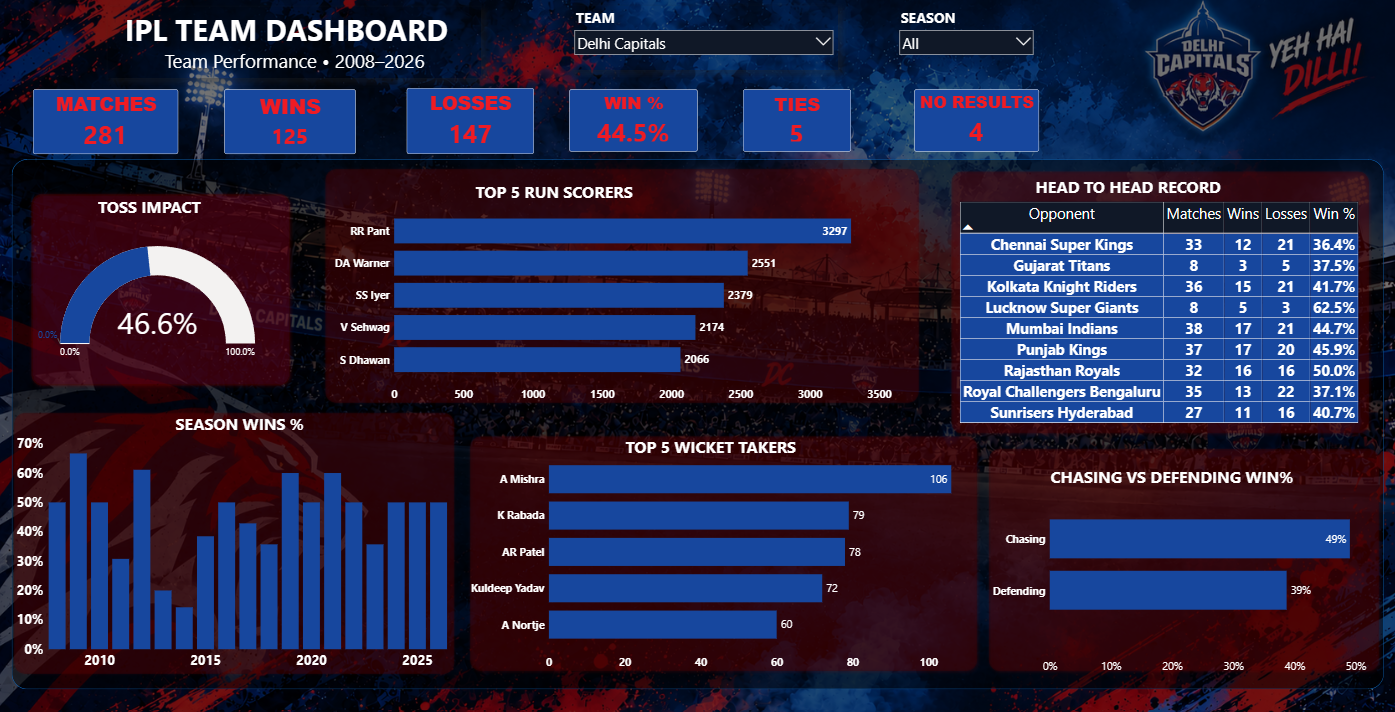

This screenshot's page, from the dashboard's own definition file:
{"tool":"powerbi","page":{"name":"Page 1","canvas":[2800,1450],"ordinal":0},"visuals":[{"type":"image","box":[0,2.3,2800,1448.5],"z":0},{"type":"shape","box":[0,2.3,2800,1448.5],"z":1000},{"type":"shape","box":[27.2,322.3,2744.3,1060],"z":2000},{"type":"shape","box":[56.7,383.6,535.7,401.8],"z":2500},{"type":"shape","box":[649.2,338.2,1196.2,476.7],"z":2750},{"type":"shape","box":[935.6,868.6,1032.7,487.5],"z":2875},{"type":"shape","box":[27.2,824,889.8,531.2],"z":2937},{"type":"shape","box":[1897.6,338.2,853.5,542.5],"z":2968},{"type":"shape","box":[1972.5,892.1,799,463.1],"z":2984},{"type":"slicer","fields":{"Values":["Dim_Team.Team_Name"]},"box":[1143.6,13.9,538.3,129.4],"z":3000},{"type":"slicer","fields":{"Values":["Dim_Date.Year"]},"box":[1792.7,13.9,288.8,129.4],"z":4000},{"type":"textbox","box":[219.5,18.5,746.2,143.2],"z":5000},{"type":"cardVisual","title":"MATCHES","fields":{"Data":["Dim_Date.Matches Played"]},"box":[70.4,181.6,290.5,129.4],"z":6000},{"type":"cardVisual","title":"WINS","fields":{"Data":["Fact_Match.Wins"]},"box":[452.8,182.5,263.4,129.4],"z":8000},{"type":"cardVisual","title":"LOSSES","fields":{"Data":["Fact_Match.Losses"]},"box":[817.2,179.3,254.2,131.7],"z":9000},{"type":"cardVisual","title":"WIN %","fields":{"Data":["Fact_Match.Win %"]},"box":[1143.6,182.5,256.4,124.8],"z":10000},{"type":"cardVisual","title":"TIES","fields":{"Data":["Fact_Match.Ties"]},"box":[1489,181.6,215.6,124.8],"z":11000},{"type":"cardVisual","title":"NO RESULTS","fields":{"Data":["Fact_Match.No Results"]},"box":[1832,182.5,249.5,124.8],"z":12000},{"type":"clusteredBarChart","title":"Top 5 Run Scorers","fields":{"Y":["Dim_Date.Total Runs"],"Category":["Fact_Ball.batter"]},"box":[667.3,401.8,1125.9,415.4],"z":13000},{"type":"clusteredBarChart","title":"Top 5 Wicket Takers","fields":{"Category":["Fact_Ball.bowler"],"Y":["Fact_Ball.Total Wickets"]},"box":[940.3,891.7,1032.7,462],"z":14000},{"type":"tableEx","title":"HEAD-TO-HEAD RECORD","fields":{"Values":["H2H Opponents.Opponent","Dim_Date.H2H Matches","Dim_Date.H2H Wins","Dim_Date.H2H Losses","Dim_Date.H2H Win %"]},"box":[1918.1,401.8,810.4,469.9],"z":15000},{"type":"clusteredBarChart","title":"Chasing vs Defending","fields":{"Category":["Match Situation.Situation"],"Y":["Match Situation.Situation Win %"]},"box":[1988.4,937.5,783.1,419.9],"z":16000},{"type":"clusteredColumnChart","title":"Season Wins","fields":{"Y":["Dim_Date.Season Win %"],"Category":["Dim_Date.Year"]},"box":[32.3,868.6,884.8,485.1],"z":17000},{"type":"gauge","title":"Toss Impact","fields":{"Y":["Dim_Date.Toss Win Match %"]},"box":[70.4,474.4,449.4,272.4],"z":18000},{"type":"textbox","box":[196,390,301.9,72.6],"z":19000},{"type":"textbox","box":[950,360,397.2,81.7],"z":20000},{"type":"textbox","box":[2070,350,492.6,145.3],"z":21000},{"type":"textbox","box":[350,825,300,300],"z":22000},{"type":"textbox","box":[1250,870,399.7,83.2],"z":23000},{"type":"textbox","box":[2100,930,559.1,122.4],"z":24000}]}

Visuals, with their boxes in screenshot pixels (x1, y1, x2, y2), scaled from the page's 2800x1450 canvas onto the 1395x712 screenshot:
image: bbox=[0, 1, 1394, 711]
shape: bbox=[0, 1, 1394, 711]
shape: bbox=[14, 158, 1381, 679]
shape: bbox=[28, 188, 295, 386]
shape: bbox=[323, 166, 919, 400]
shape: bbox=[466, 427, 981, 666]
shape: bbox=[14, 405, 457, 665]
shape: bbox=[945, 166, 1371, 432]
shape: bbox=[983, 438, 1381, 665]
slicer - Dim_Team.Team_Name: bbox=[570, 7, 838, 70]
slicer - Dim_Date.Year: bbox=[893, 7, 1037, 70]
textbox: bbox=[109, 9, 481, 79]
"MATCHES" cardVisual: bbox=[35, 89, 180, 153]
"WINS" cardVisual: bbox=[226, 90, 357, 153]
"LOSSES" cardVisual: bbox=[407, 88, 534, 153]
"WIN %" cardVisual: bbox=[570, 90, 698, 151]
"TIES" cardVisual: bbox=[742, 89, 849, 150]
"NO RESULTS" cardVisual: bbox=[913, 90, 1037, 151]
"Top 5 Run Scorers" clusteredBarChart: bbox=[332, 197, 893, 401]
"Top 5 Wicket Takers" clusteredBarChart: bbox=[468, 438, 983, 665]
"HEAD-TO-HEAD RECORD" tableEx: bbox=[956, 197, 1359, 428]
"Chasing vs Defending" clusteredBarChart: bbox=[991, 460, 1381, 667]
"Season Wins" clusteredColumnChart: bbox=[16, 427, 457, 665]
"Toss Impact" gauge: bbox=[35, 233, 259, 367]
textbox: bbox=[98, 192, 248, 227]
textbox: bbox=[473, 177, 671, 217]
textbox: bbox=[1031, 172, 1277, 243]
textbox: bbox=[174, 405, 324, 552]
textbox: bbox=[623, 427, 822, 468]
textbox: bbox=[1046, 457, 1325, 517]
